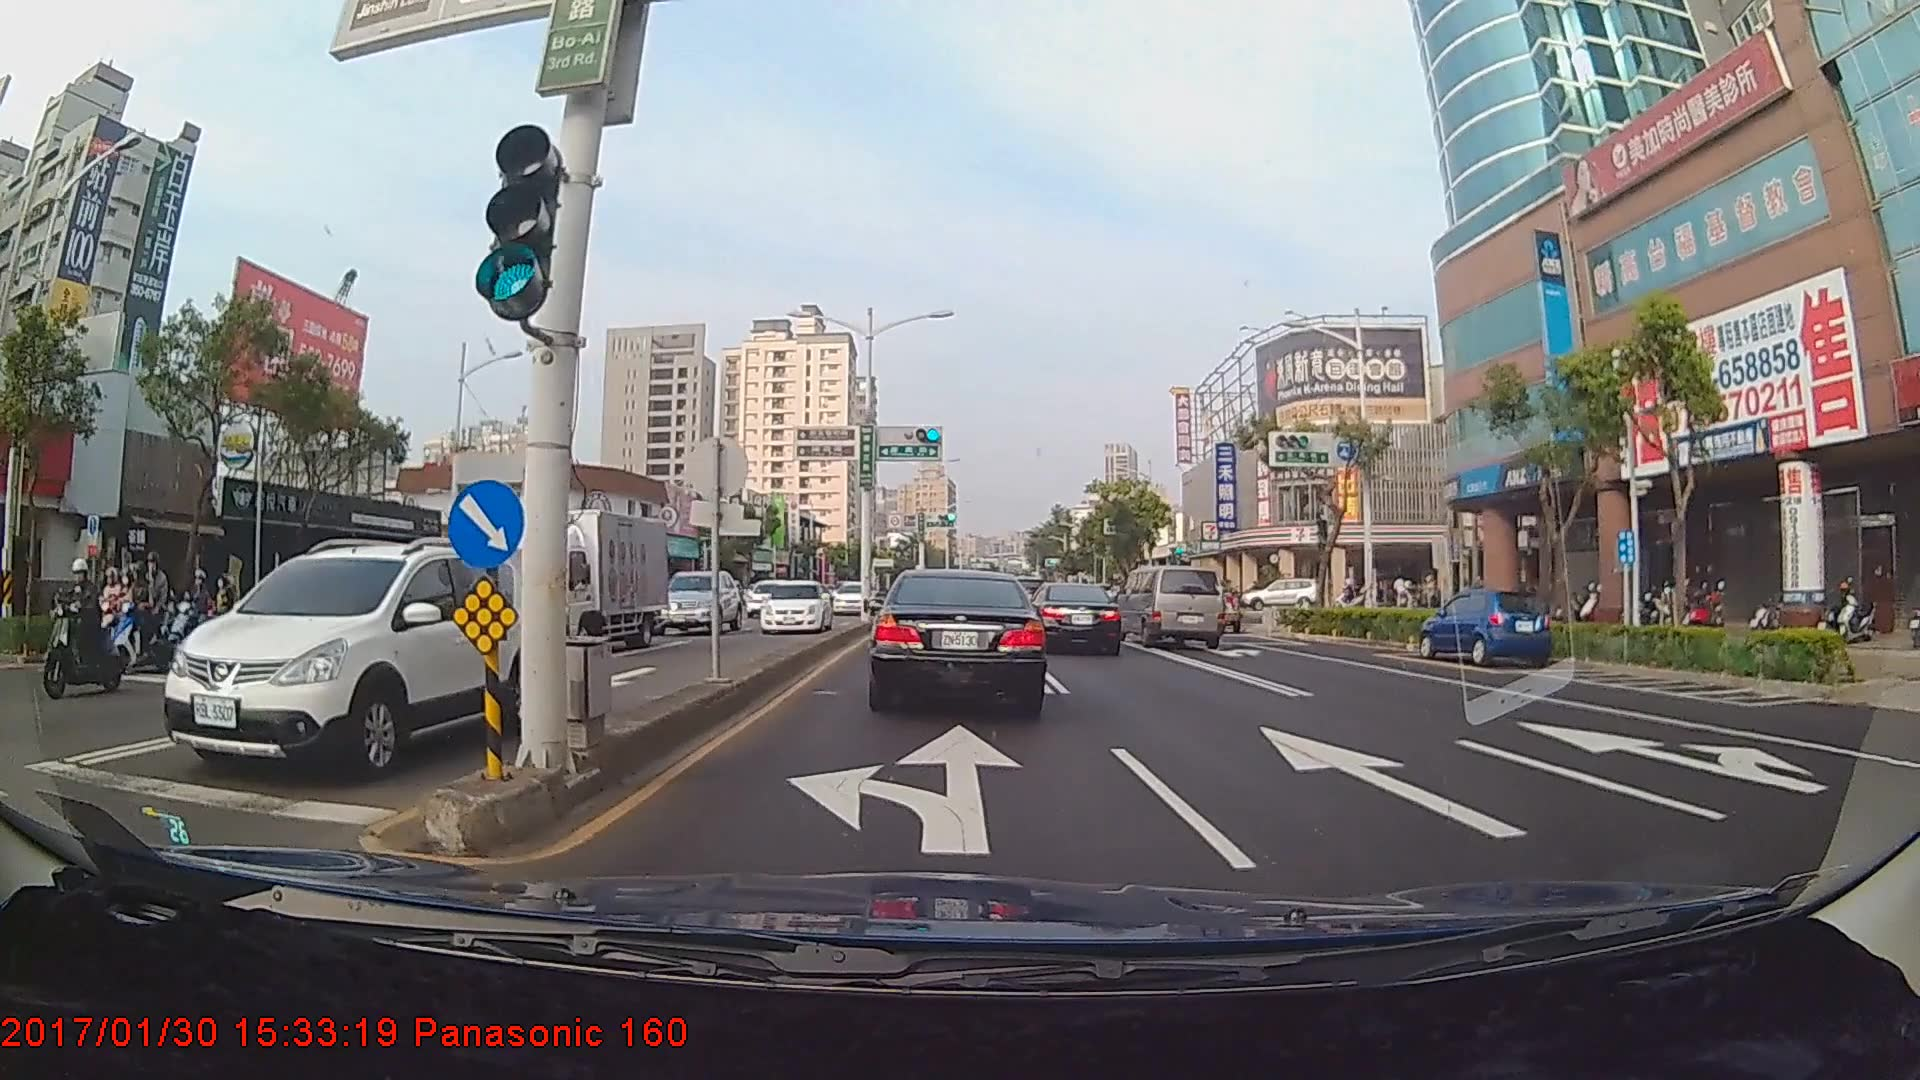rider: (30, 559, 132, 707), (100, 554, 186, 675)
vehicle: (176, 534, 510, 776), (870, 564, 1045, 713), (498, 509, 668, 658), (1415, 584, 1552, 668), (1119, 565, 1227, 651), (1030, 582, 1122, 654), (648, 568, 739, 636), (755, 575, 828, 635), (1241, 576, 1315, 612), (743, 580, 791, 617), (831, 576, 867, 617)
